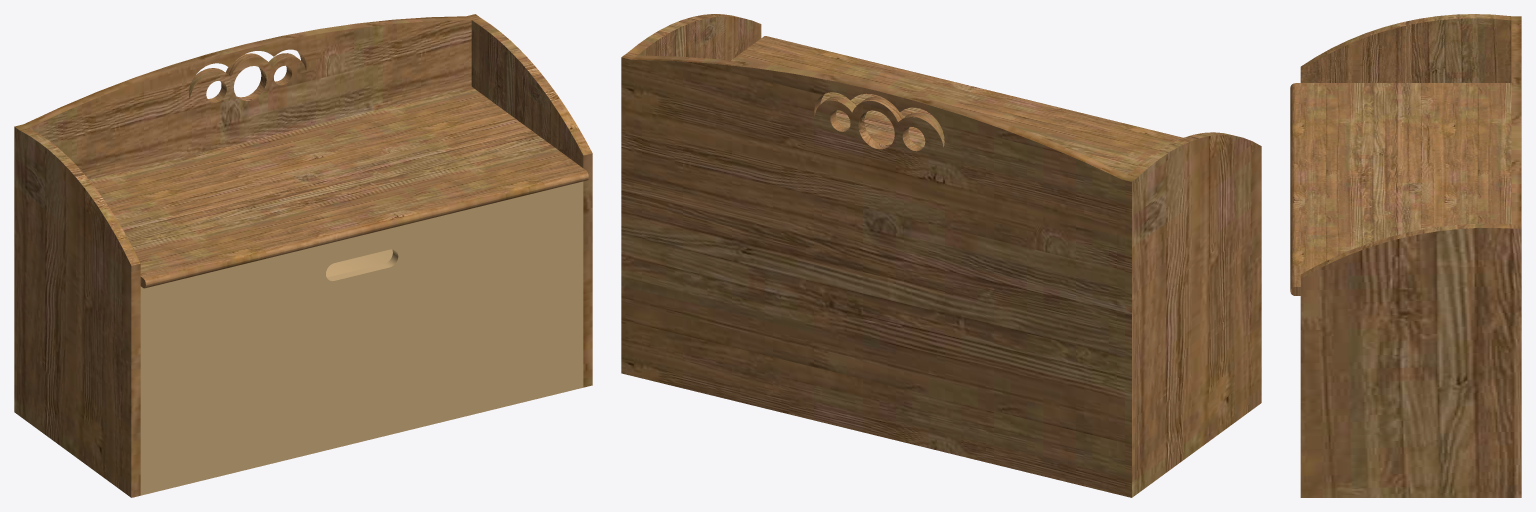
The model's file is chest_toy.fbx.
3 views of the same model, side by side, from view 1: azimuth 30°, elevation 25°; view 2: azimuth 150°, elevation 25°; view 3: azimuth 270°, elevation 25° (orthographic). The views are drawn at different scales.
Visible parts, largest first — view 1: toy_chest_exterior, toy_chest_lid, toy_chest_interior; view 2: toy_chest_exterior, toy_chest_lid; view 3: toy_chest_exterior, toy_chest_lid.
Boxes of the visible parts, <box> form: toy_chest_exterior: <box>14,14,592,497</box>; toy_chest_lid: <box>89,86,588,288</box>; toy_chest_interior: <box>326,249,392,277</box>; toy_chest_exterior: <box>621,14,1261,497</box>; toy_chest_lid: <box>731,36,1182,174</box>; toy_chest_exterior: <box>1300,14,1521,497</box>; toy_chest_lid: <box>1290,83,1511,295</box>.
Bounding box in the file's own units: 3.09 × 1.99 × 1.42.
Materials: 2 (1 with a texture image).
